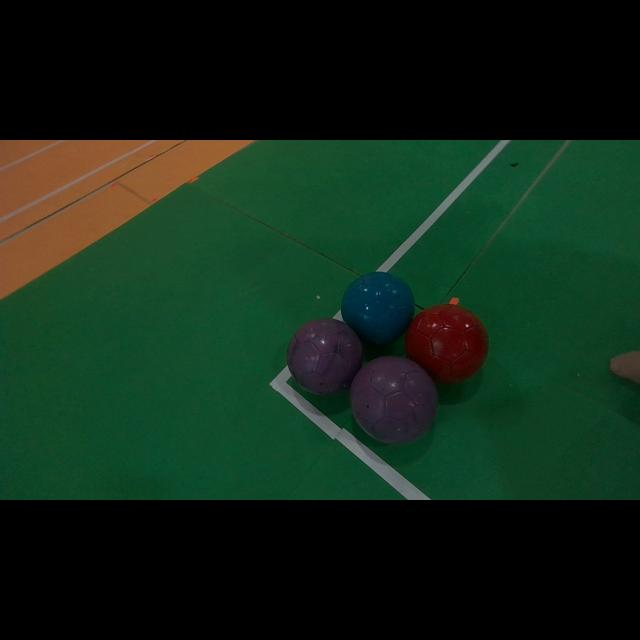B: (341, 271, 415, 345)
P: (350, 356, 438, 444), (288, 319, 362, 395)
R: (405, 304, 489, 383)
